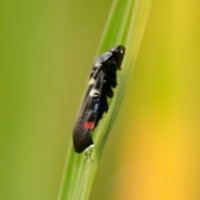insect: (73, 45, 124, 152)
